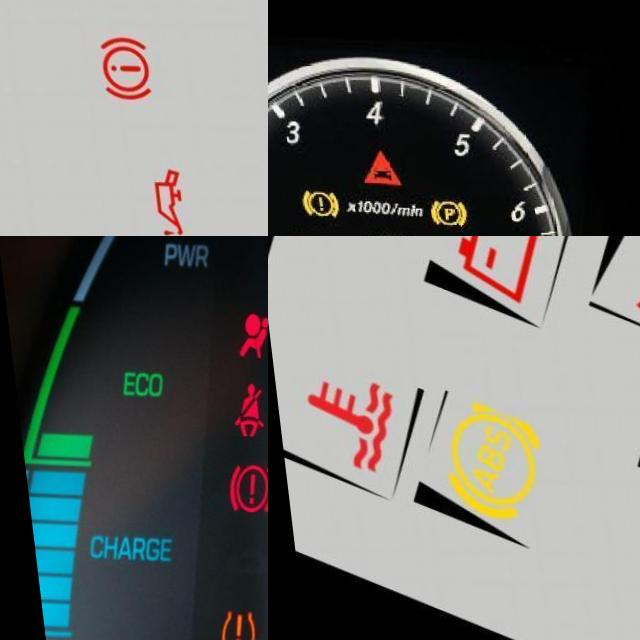Seat Belt: (221, 379, 260, 435)
